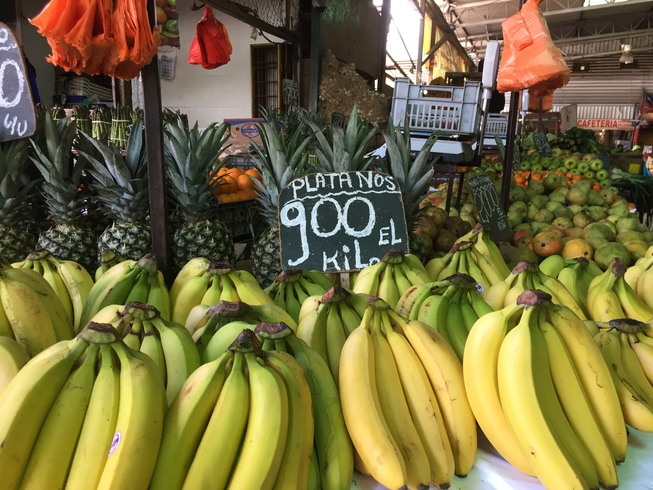precio: (276, 171, 416, 275), (1, 15, 42, 137)
